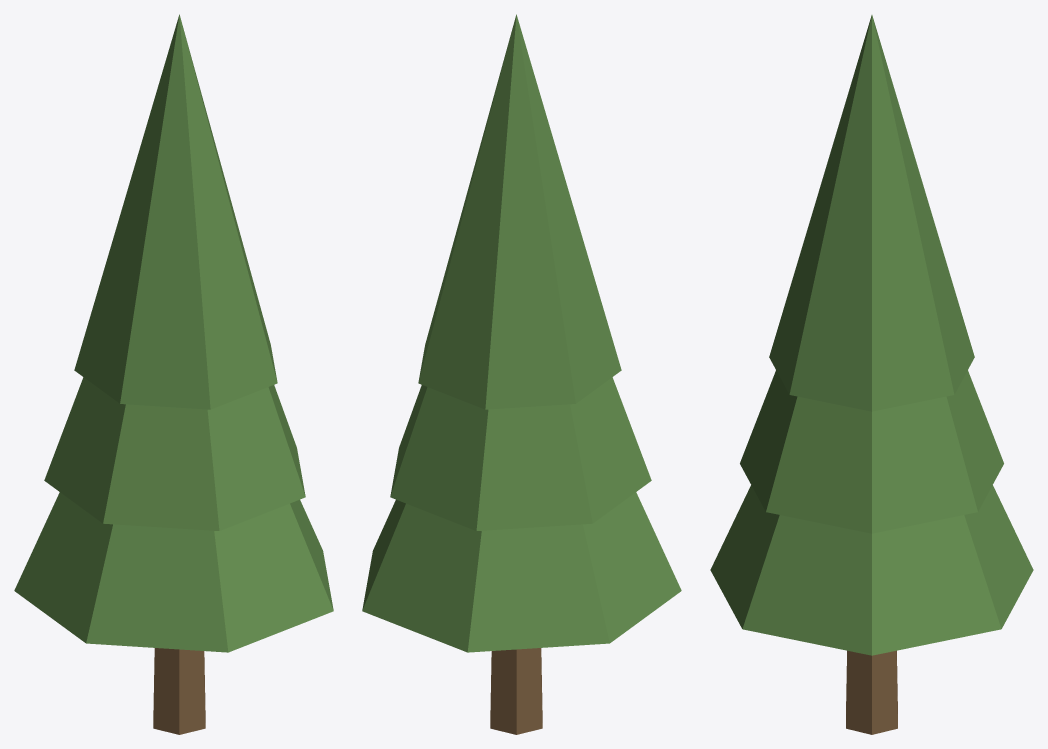
Rendered from tree_conifer_04.glb.
3 renders of one model, left to right at view 1: azimuth 30°, elevation 25°; view 2: azimuth 150°, elevation 25°; view 3: azimuth 270°, elevation 25°, orthographic.
Size of the model in its own units: 2.09 by 5.18 by 2.14.
